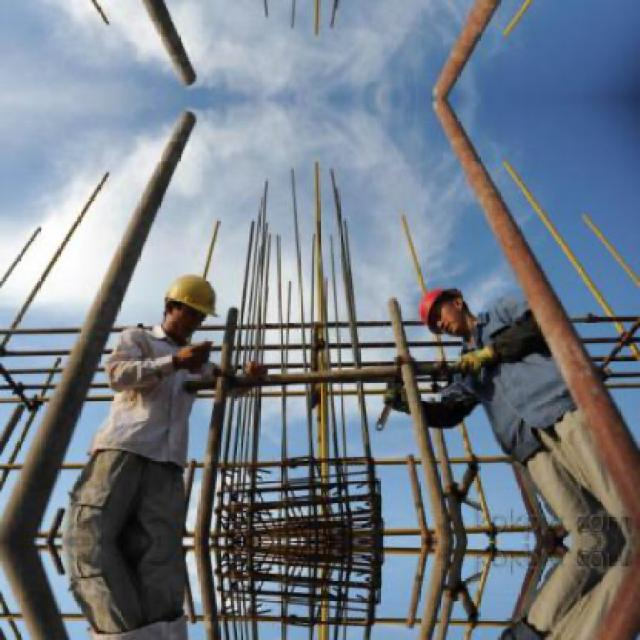helmet: (160, 274, 218, 341), (416, 284, 476, 336)
